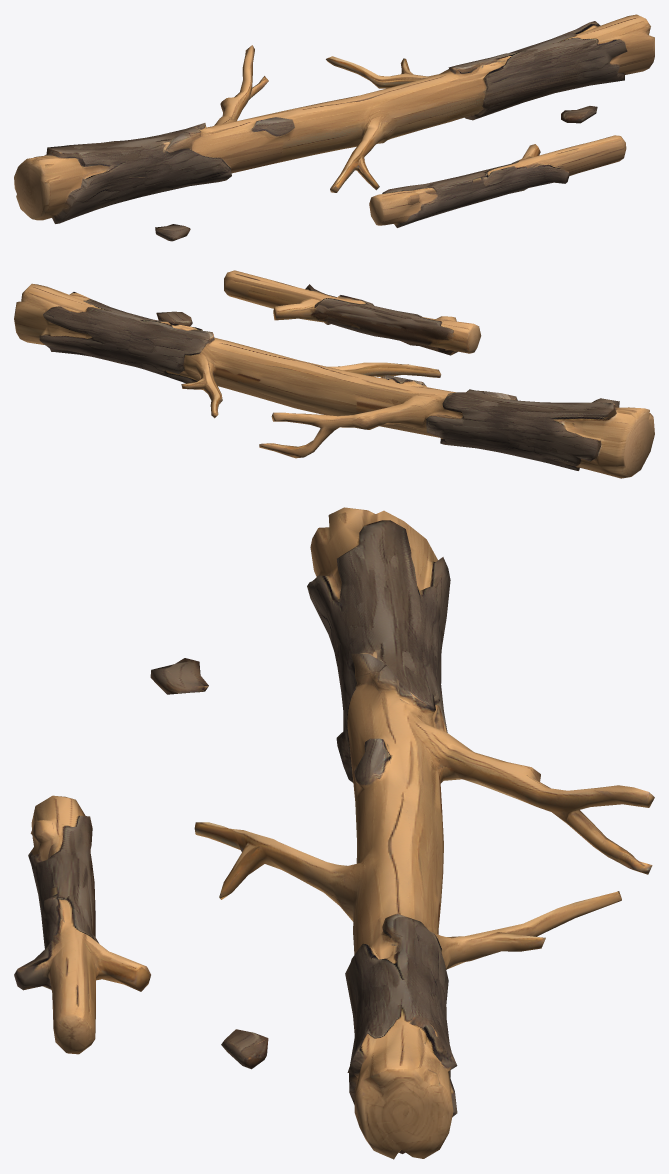
3 views of the same model, one above another, from view 1: azimuth 30°, elevation 25°; view 2: azimuth 150°, elevation 25°; view 3: azimuth 270°, elevation 25° (orthographic). The views are drawn at different scales.
Parts seen in each view (by area): view 1: Mesh_0; view 2: Mesh_0; view 3: Mesh_0.
Part boxes in pixels (x1=…): Mesh_0: x1=14, y1=14, x2=654, y2=241; Mesh_0: x1=14, y1=270, x2=654, y2=478; Mesh_0: x1=14, y1=507, x2=654, y2=1159.
Size of the model in its own units: 1.91 by 0.2239 by 0.9566.
1 material, 1 textured.
